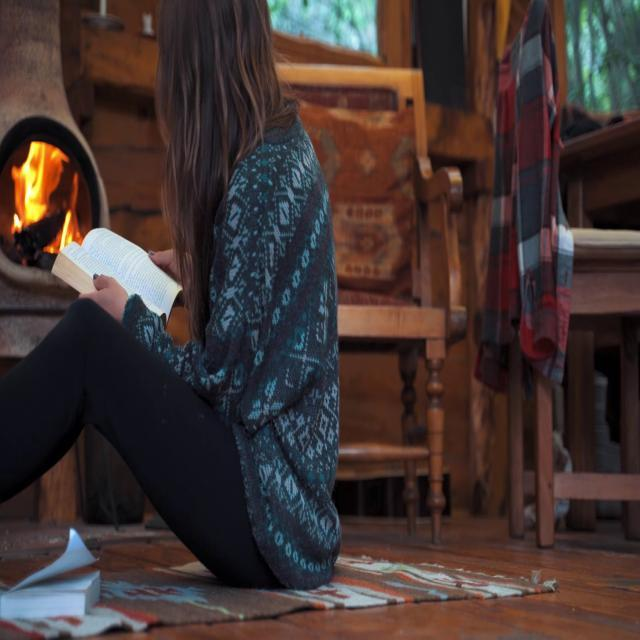Fire: (6, 140, 66, 237)
